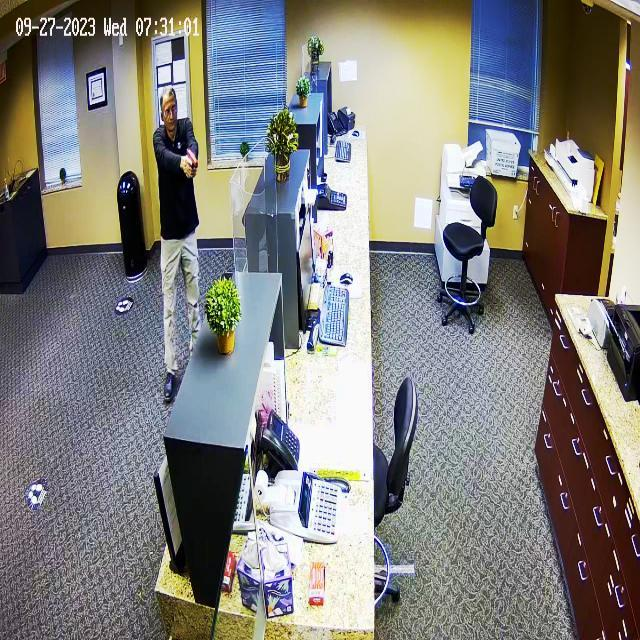Gun: (172, 144, 209, 178)
